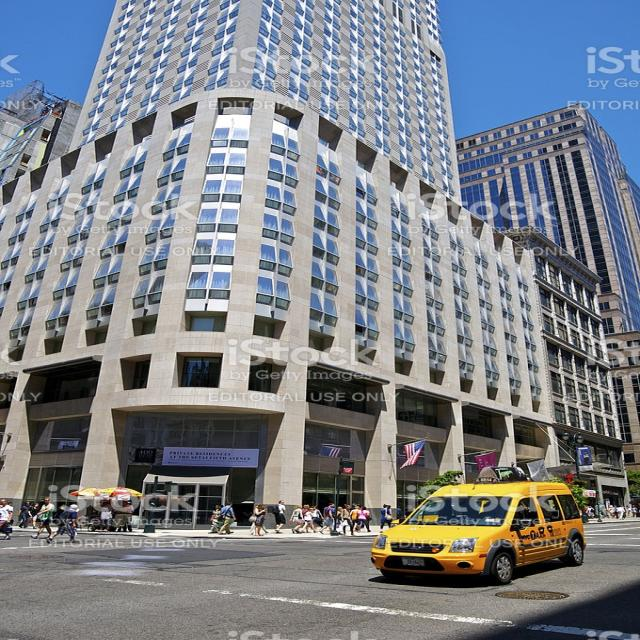body: (43, 504, 80, 544), (29, 496, 55, 540), (247, 502, 269, 534), (248, 502, 268, 537), (218, 501, 236, 535), (0, 498, 14, 540), (317, 502, 335, 534), (206, 504, 225, 534), (339, 503, 356, 536), (22, 501, 42, 529), (271, 500, 287, 534), (299, 509, 320, 534), (606, 504, 638, 520), (98, 500, 113, 532), (288, 504, 304, 534), (17, 501, 34, 528), (120, 500, 134, 532), (356, 506, 372, 533), (378, 503, 392, 533), (348, 505, 362, 533), (310, 504, 324, 530), (299, 504, 311, 533), (386, 504, 402, 518), (335, 506, 345, 528), (480, 514, 503, 522), (348, 502, 364, 511), (585, 506, 595, 519), (582, 504, 587, 514), (293, 504, 299, 510), (7, 502, 13, 506), (215, 504, 218, 508)
